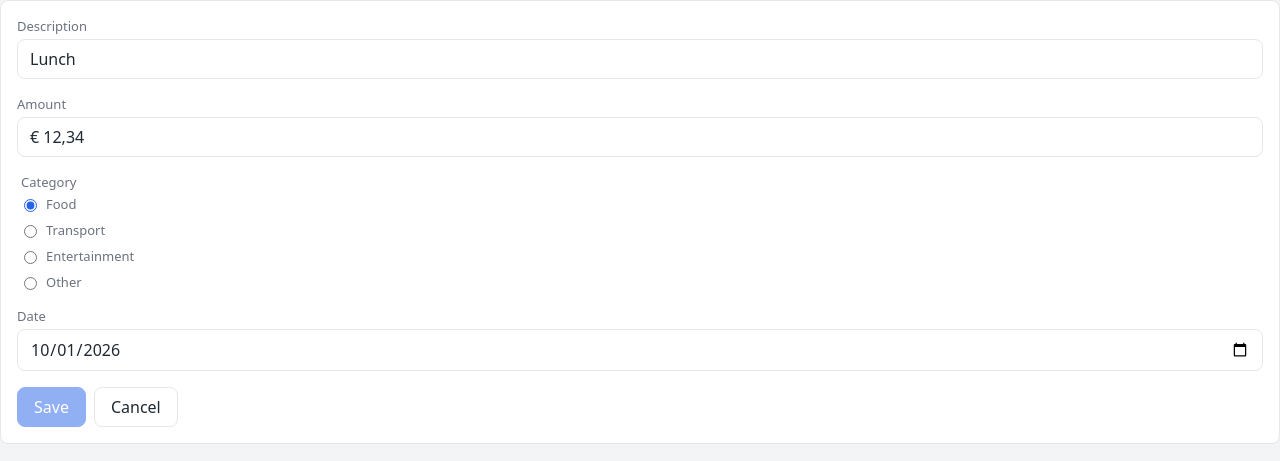
Scenario: ExpenseForm save button › is disabled in edit mode while the form is not dirty
Expected: the submit button is disabled, left=17, top=387, right=86, bottom=427
Replace the text in the field with id "expense-amount" with "20,00" at coordinates (640, 137), box left=17, top=117, right=1263, bottom=157
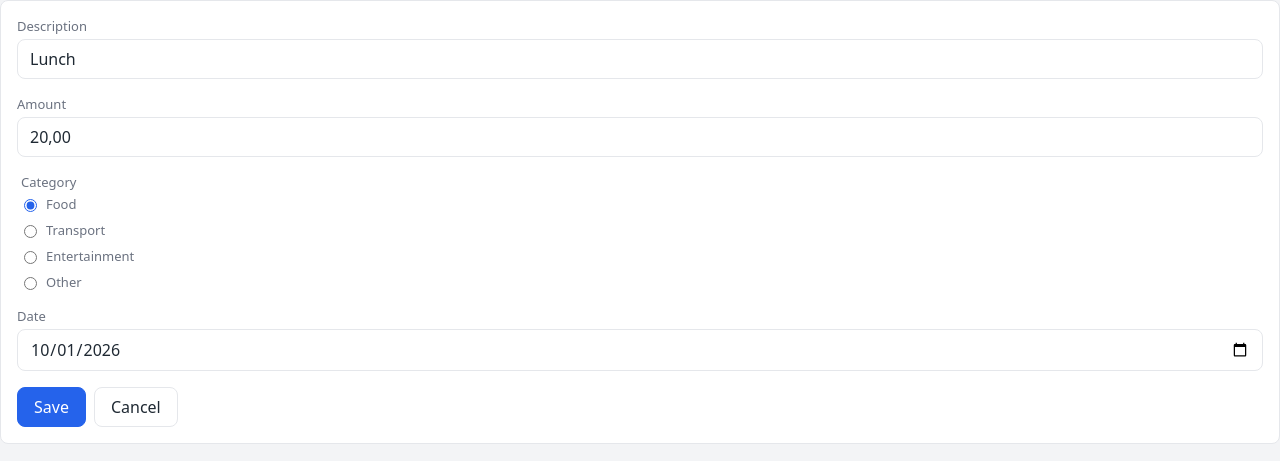
Expected: the submit button is enabled, left=17, top=387, right=86, bottom=427
